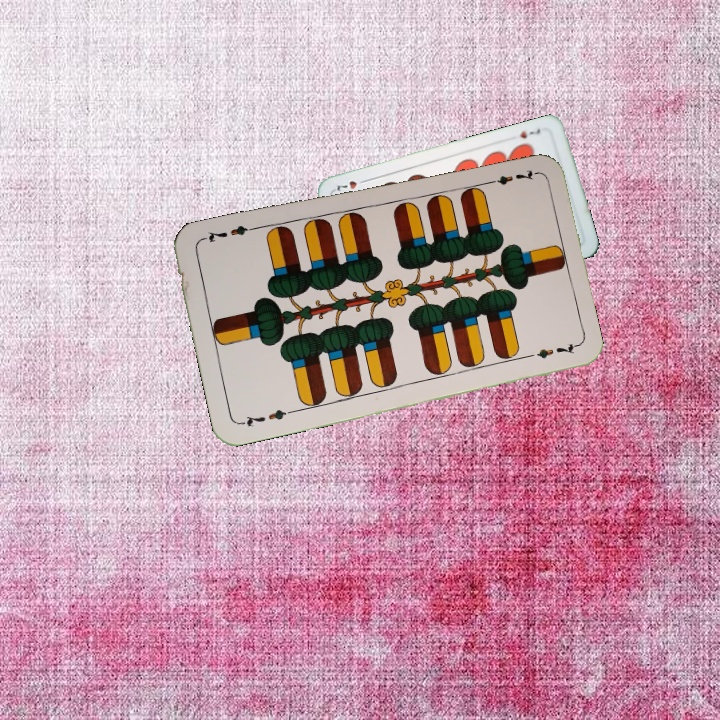E7: (236, 405, 295, 429), (480, 165, 539, 188)
H7: (516, 125, 543, 141)
